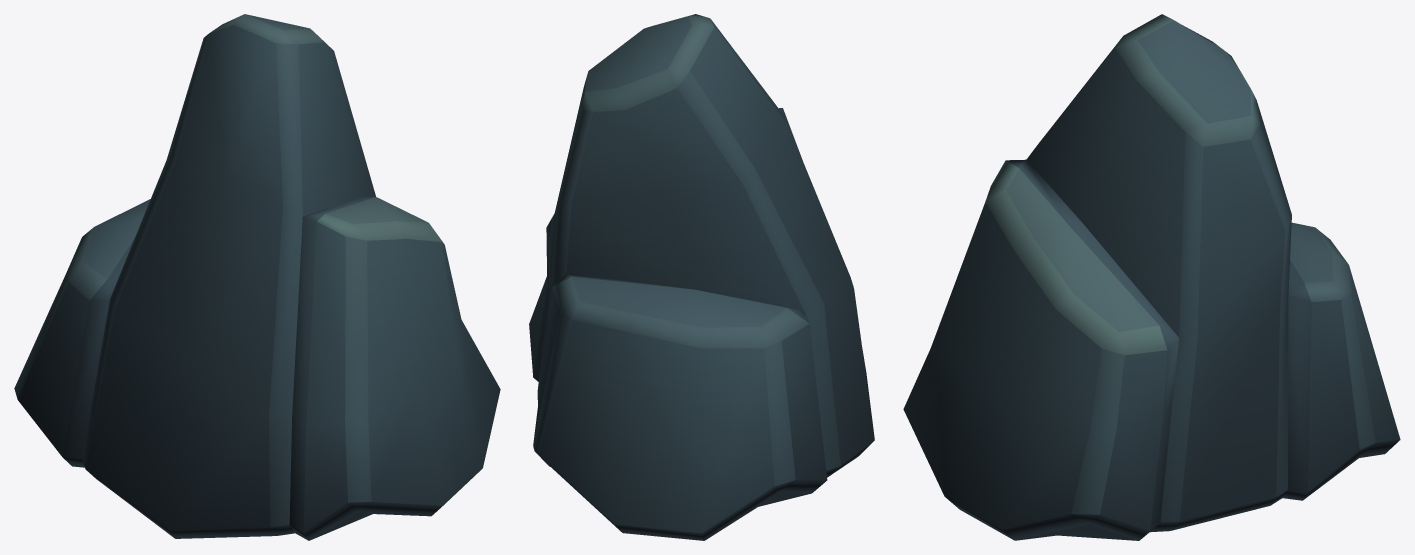
File: rock_20.fbx
3 renders of one model, left to right at view 1: azimuth 30°, elevation 25°; view 2: azimuth 150°, elevation 25°; view 3: azimuth 270°, elevation 25°, orthographic. The views are drawn at different scales.
Visible parts, largest first — view 1: rock_20; view 2: rock_20; view 3: rock_20.
Part boxes in pixels (x1,y1,x2,y2): rock_20: [14, 14, 500, 540]; rock_20: [529, 14, 874, 540]; rock_20: [903, 14, 1400, 540].
Bounding box in the file's own units: 249 × 302 × 283.
